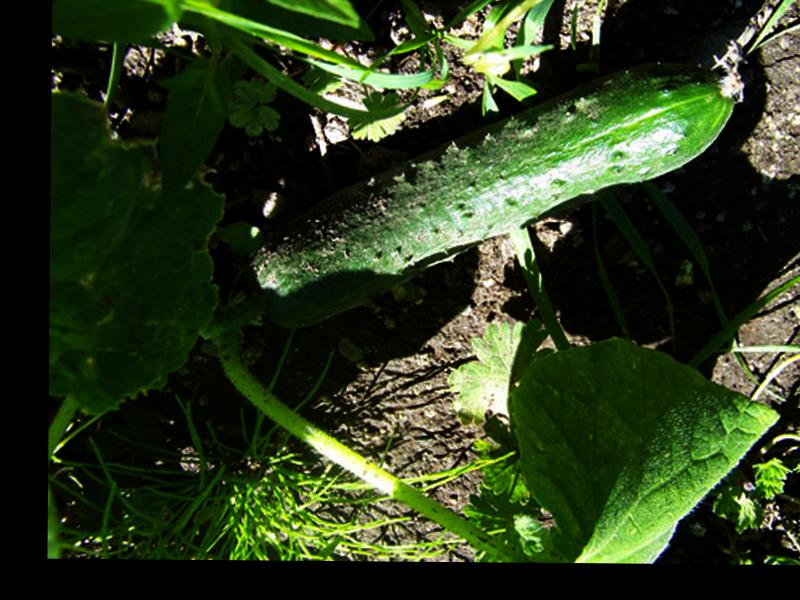Cucumber: (242, 57, 742, 333)
